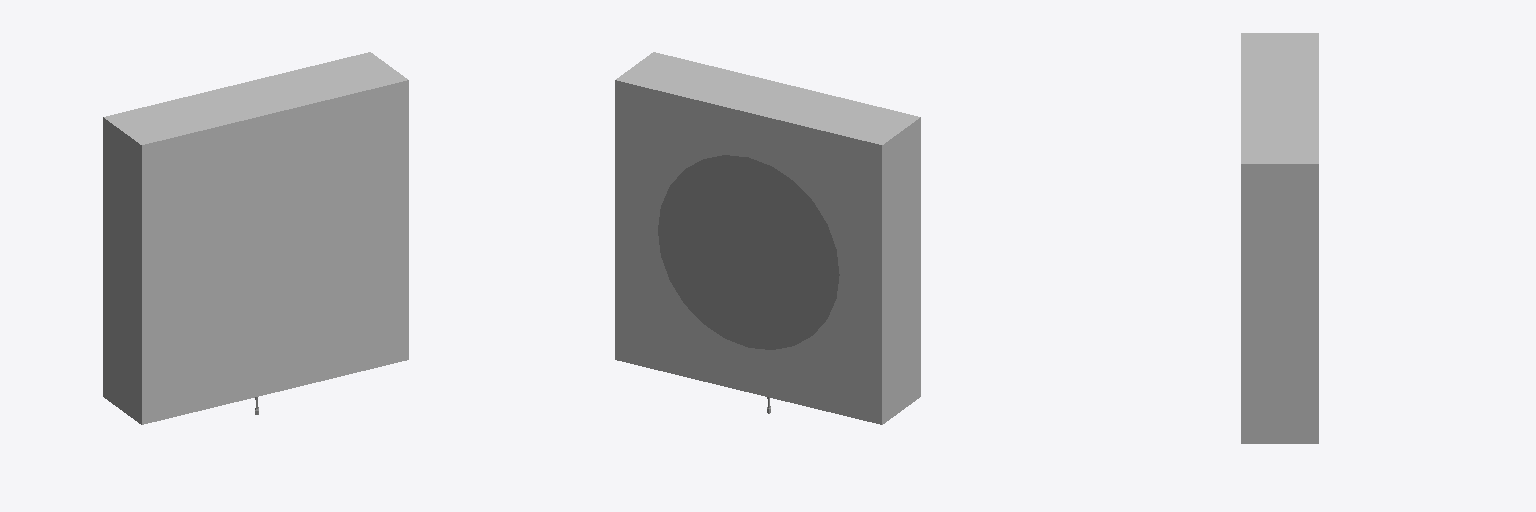
File: auc_apollonius_cutter.obj
The picture shows the model from 3 angles: view 1: azimuth 30°, elevation 25°; view 2: azimuth 150°, elevation 25°; view 3: azimuth 270°, elevation 25°; orthographic projection.
Parts seen in each view (by area): view 1: co_culling; view 2: co_culling, g_part1_contour, c_convex_001; view 3: co_culling.
Boxes of the visible parts, x1,y1,x2,y2 form: co_culling: [103, 52, 408, 424]; co_culling: [615, 52, 920, 424]; g_part1_contour: [658, 155, 839, 349]; c_convex_001: [655, 152, 841, 351]; co_culling: [1241, 33, 1318, 443].
Size of the model in its own units: 200 by 225 by 50.